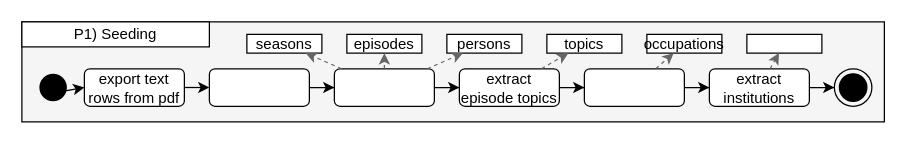
This 906x144 diagram has some shape labels left out. Here are the shapes that lost their labels. From the top down, the centre of each, then its label:
the point at 784,43: institutions
the point at 258,87: group text rows by episode
the point at 383,87: identify episode properties
the point at 633,87: extract guest occupations
